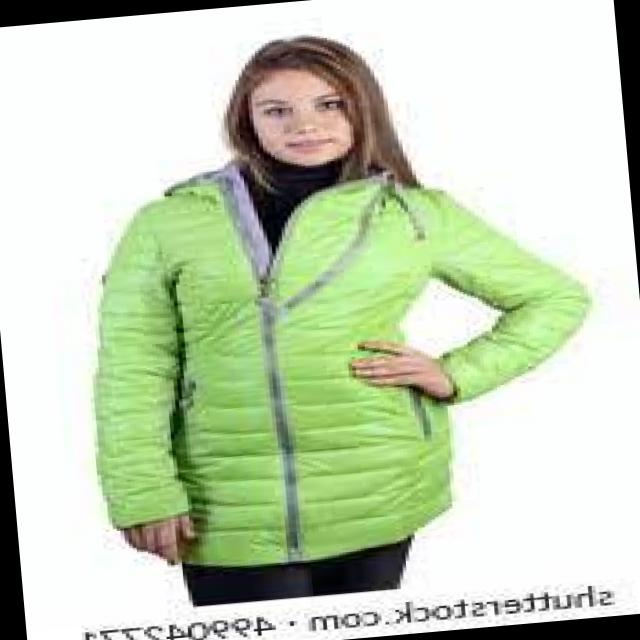Jacket: (64, 133, 617, 574)
